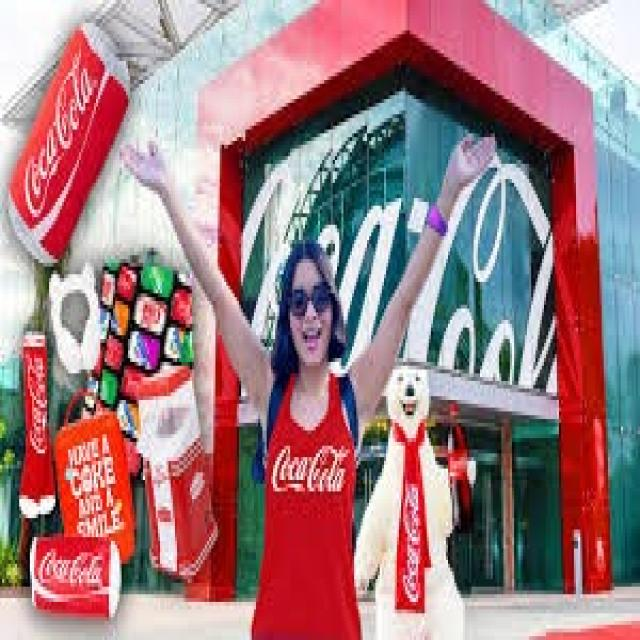coca cola: (23, 47, 97, 226), (268, 437, 351, 508)
